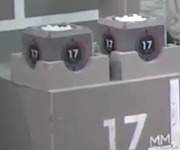box: (18, 22, 98, 72), (95, 12, 166, 62)
